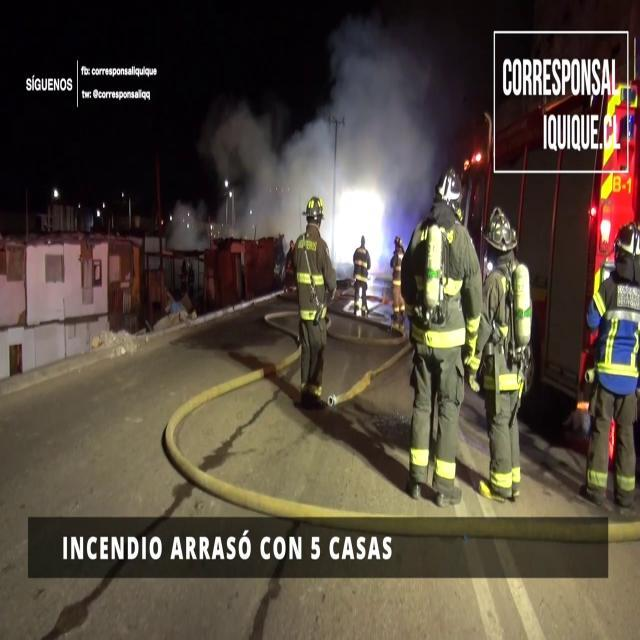Smoke: (206, 2, 438, 230)
